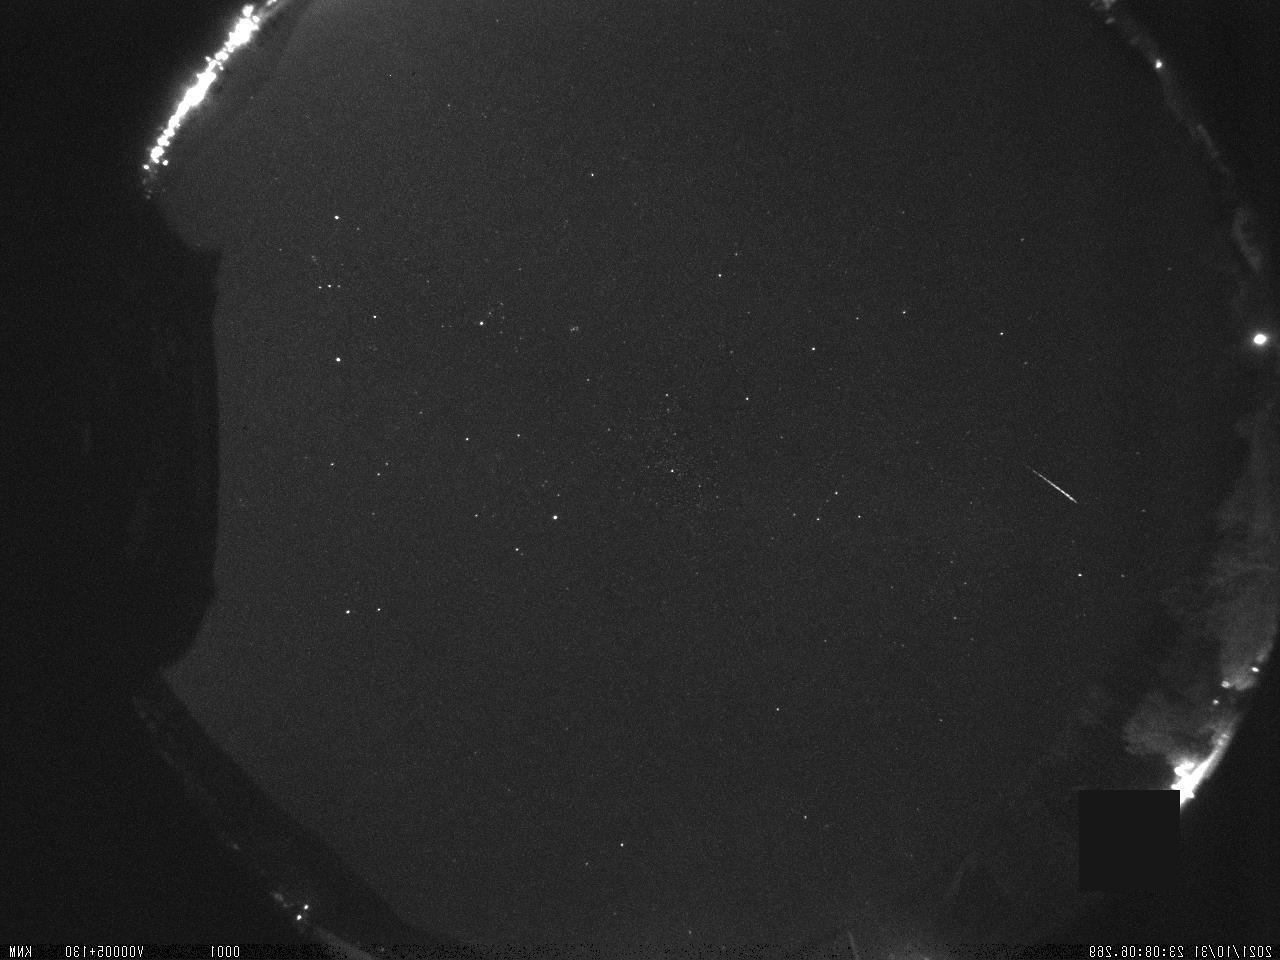meteor: (991, 445, 1093, 526)
